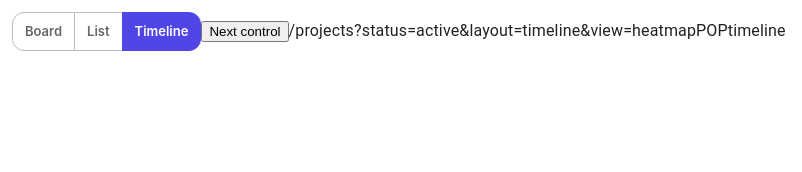
Test case: ViewSwitch › works with another parameter, default view and more than two views
The width and height of the screenshot is (802, 172).
Click the button "List" at {"x": 98, "y": 31}, box [74,12,123,51]
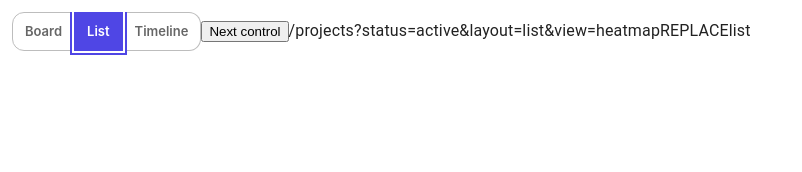
expect the text named "URL" reads "/projects?status=active&layout=list&view=heatmap": met, box [288,21,660,40]
Click the button "Board" at {"x": 44, "y": 31}, box [12,12,75,51]
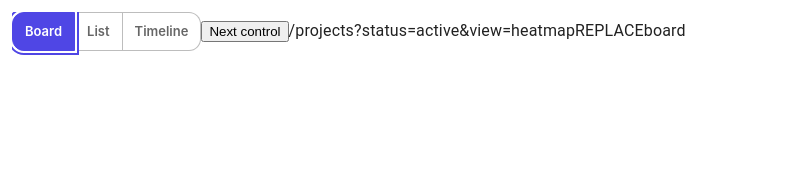
expect the text named "URL" reads "/projects?status=active&view=heatmap": met, box [288,21,575,40]
expect the text named "View shown" reads "board": met, box [644,21,686,40]
